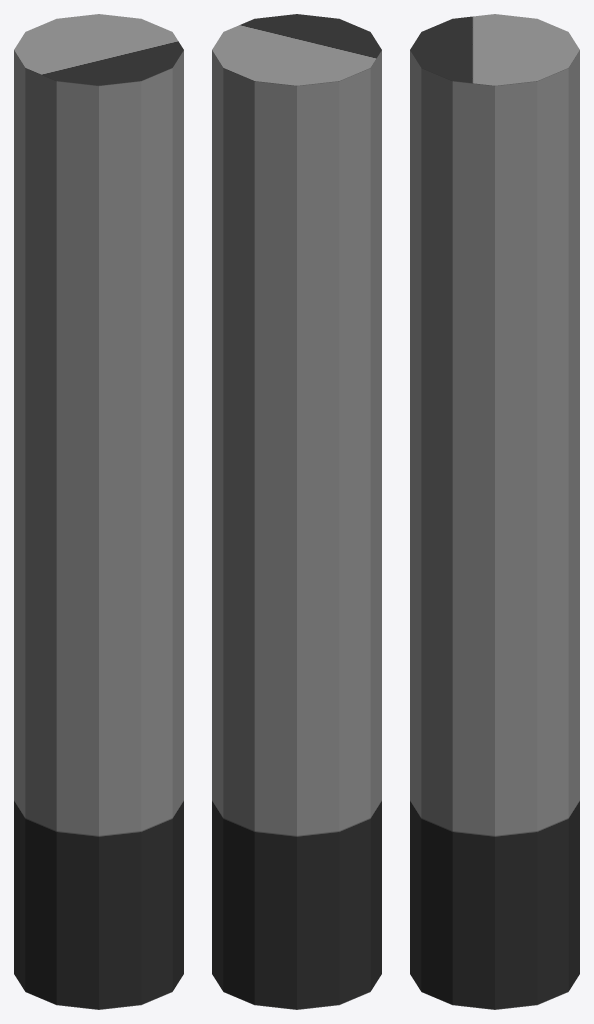
Rendered from Pillor_lod_2.fbx.
3 views of the same model, side by side, from view 1: azimuth 30°, elevation 25°; view 2: azimuth 150°, elevation 25°; view 3: azimuth 270°, elevation 25° (orthographic).
Parts seen in each view (by area): view 1: Pillor_lod_2; view 2: Pillor_lod_2; view 3: Pillor_lod_2.
Part boxes in pixels (x1=…): Pillor_lod_2: x1=14, y1=14, x2=183, y2=1009; Pillor_lod_2: x1=212, y1=14, x2=381, y2=1009; Pillor_lod_2: x1=410, y1=14, x2=579, y2=1009.
Size of the model in its own units: 100 by 600 by 100.
Materials: 1 (1 with a texture image).
